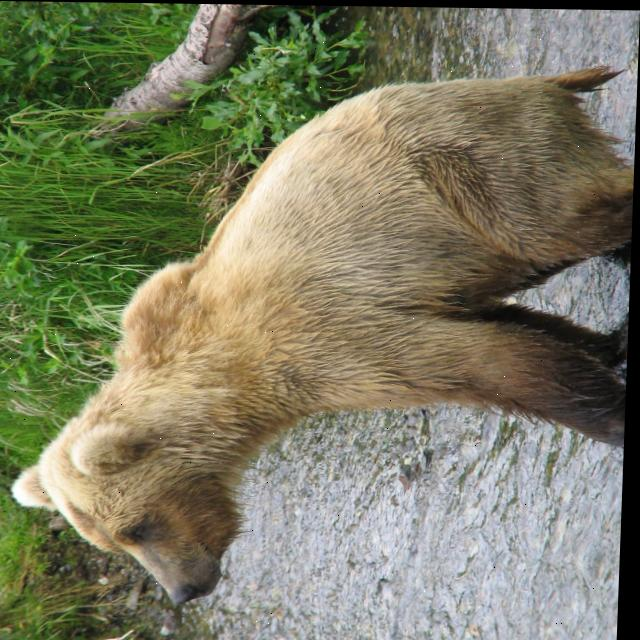bear face: (12, 54, 638, 605)
